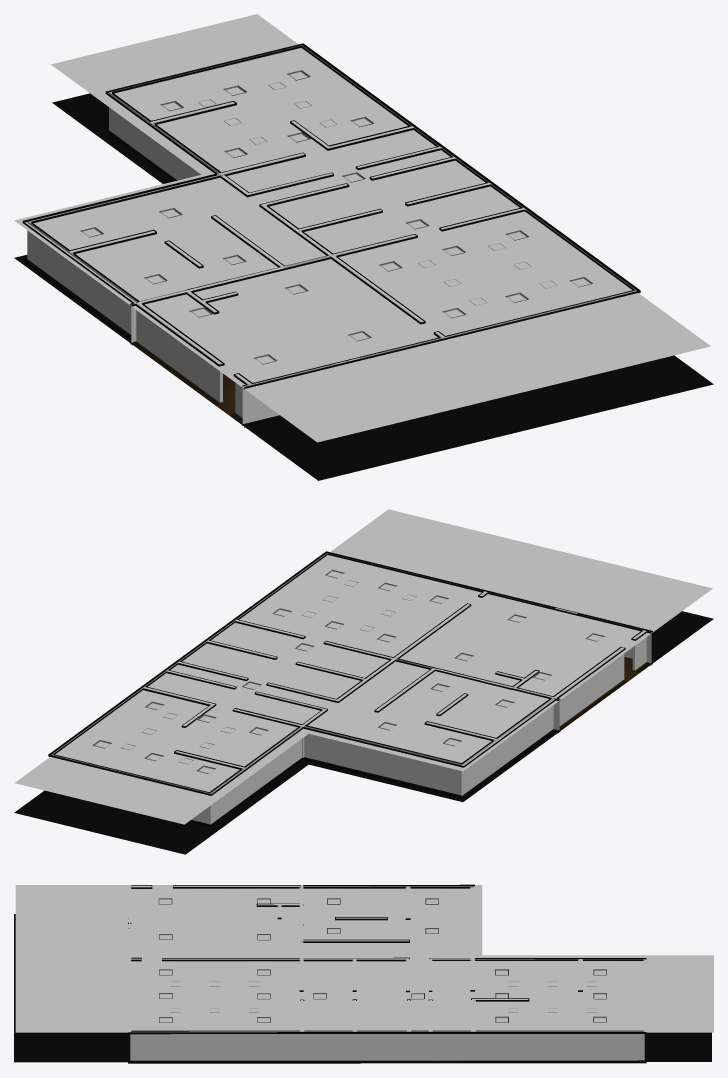
File: cutbackrooms 1.fbx
The picture shows the model from 3 angles, top to bottom: view 1: azimuth 30°, elevation 25°; view 2: azimuth 150°, elevation 25°; view 3: azimuth 270°, elevation 25°; orthographic projection. The views are drawn at different scales.
Parts seen in each view (by area): view 1: Roof2_002, carpetSquare_001, outerWalls_002, skirtings_002, lights_003; view 2: Roof2_002, outerWalls_002, skirtings_002, carpetSquare_001, lights_003; view 3: Roof2_002, outerWalls_002, skirtings_002, carpetSquare_001, lights_003.
Part boxes in pixels (x1,y1,x2,y2): Roof2_002: (14,14,710,442); carpetSquare_001: (14,93,713,480); outerWalls_002: (27,45,636,423); skirtings_002: (22,43,640,427); lights_003: (80,70,592,364); Roof2_002: (14,509,712,824); outerWalls_002: (51,553,651,824); skirtings_002: (48,551,652,826); carpetSquare_001: (14,611,713,854); lights_003: (92,569,605,773); Roof2_002: (15,885,713,1032); outerWalls_002: (128,885,644,1060); skirtings_002: (128,884,646,1063); carpetSquare_001: (14,914,711,1062); lights_003: (158,898,606,1022).
Size of the model in its own units: 3284 by 325 by 6531.
